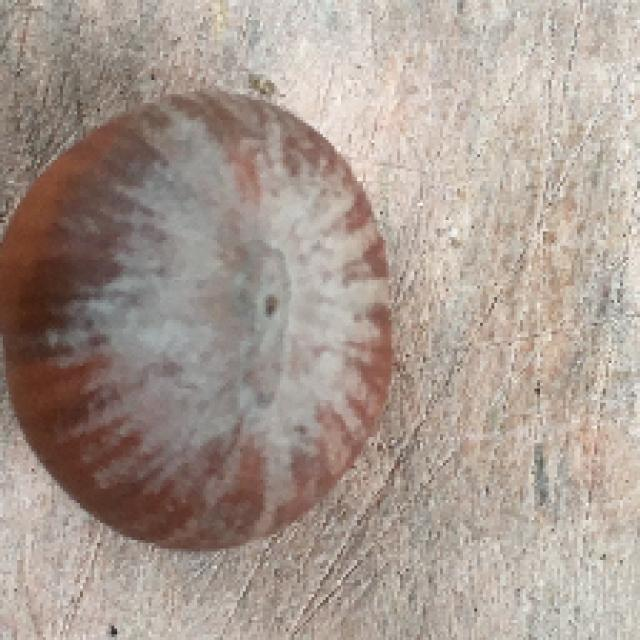qualityHazelnut: (0, 88, 397, 560)
